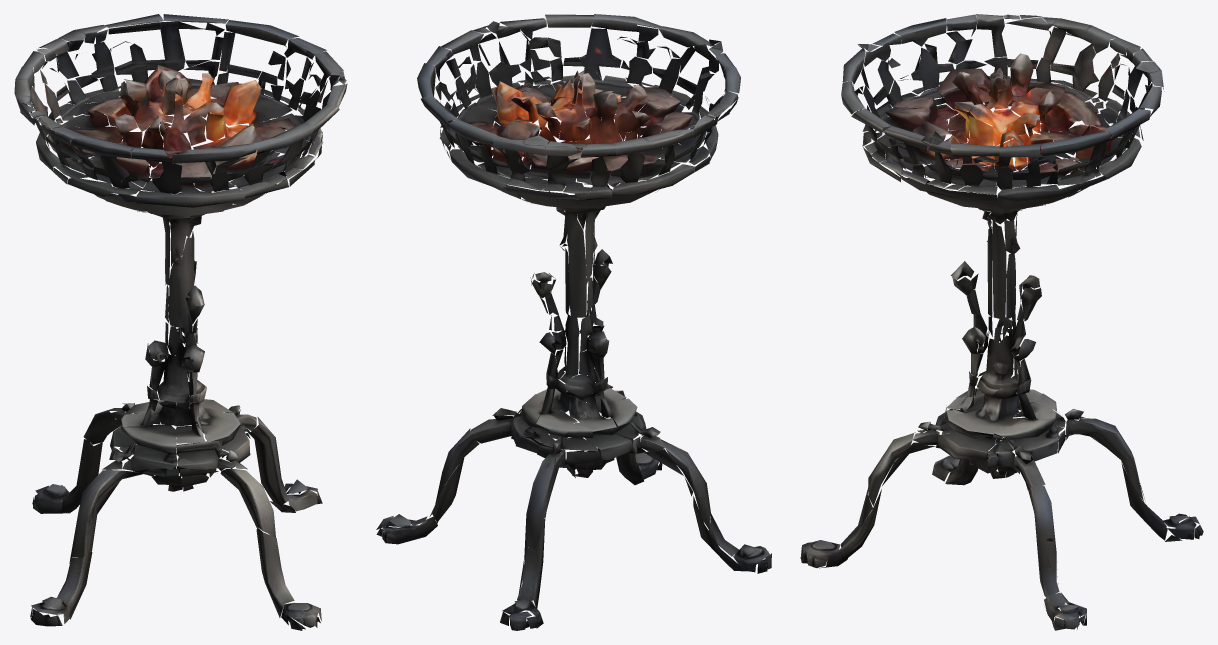
The model's file is brazier.glb.
3 renders of one model, left to right at view 1: azimuth 30°, elevation 25°; view 2: azimuth 150°, elevation 25°; view 3: azimuth 270°, elevation 25°, orthographic. The views are drawn at different scales.
Parts seen in each view (by area): view 1: tripo_node_e958a553-8f65-4d58-9323-c167cae32139; view 2: tripo_node_e958a553-8f65-4d58-9323-c167cae32139; view 3: tripo_node_e958a553-8f65-4d58-9323-c167cae32139.
Part boxes in pixels (x1,y1,x2,y2): tripo_node_e958a553-8f65-4d58-9323-c167cae32139: (14, 14, 347, 630); tripo_node_e958a553-8f65-4d58-9323-c167cae32139: (376, 14, 771, 630); tripo_node_e958a553-8f65-4d58-9323-c167cae32139: (800, 14, 1203, 630).
Size of the model in its own units: 0.7282 by 0.9981 by 0.7637.
Materials: 1 (1 with a texture image).
